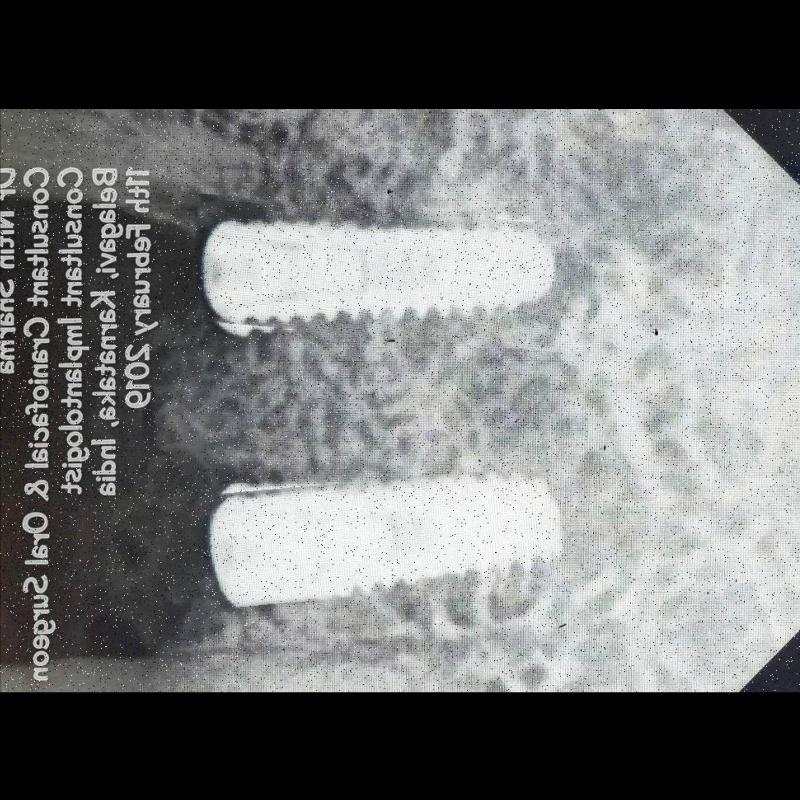osstem: (192, 202, 566, 344), (212, 472, 554, 600)
